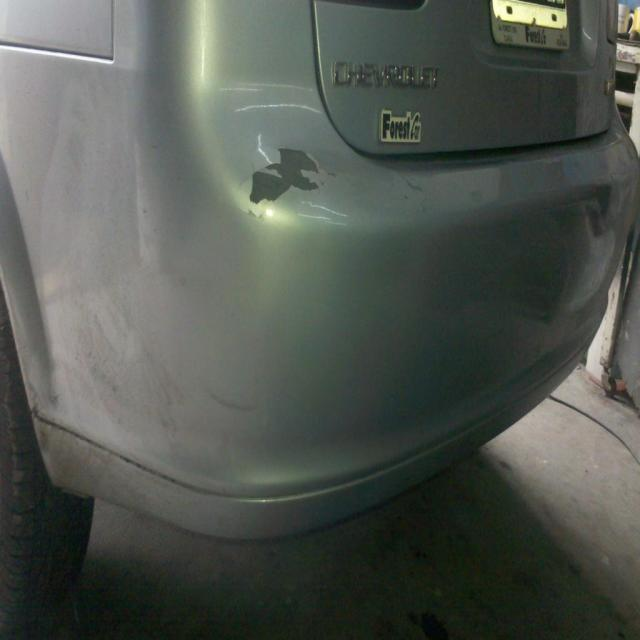scratch: (210, 70, 354, 228), (391, 169, 436, 223)
